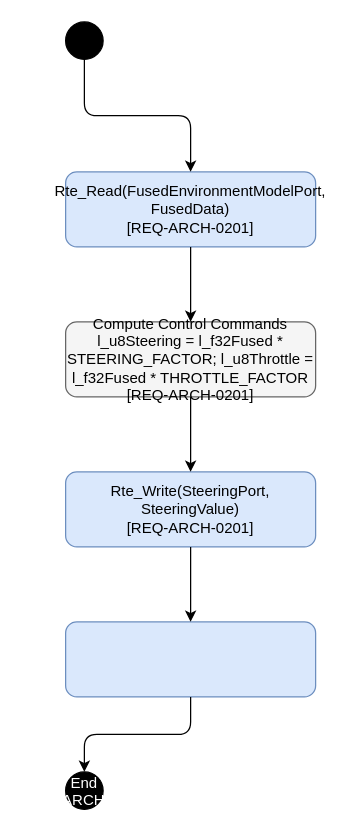
Image size: 349x831. Some labels were removed from this diagram. The centre of each missing label's shape, as x and y in pixels:
"Rte_Write(ThrottlePort, ThrottleValue) [REQ-ARCH-0201]" goes at point (190, 659).
"Start (10ms) [REQ-ARCH-0201]" goes at point (83, 40).
